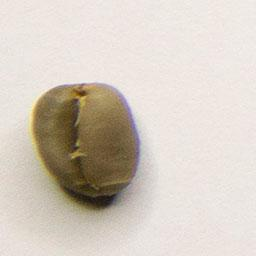peaberry: (28, 79, 142, 199)
